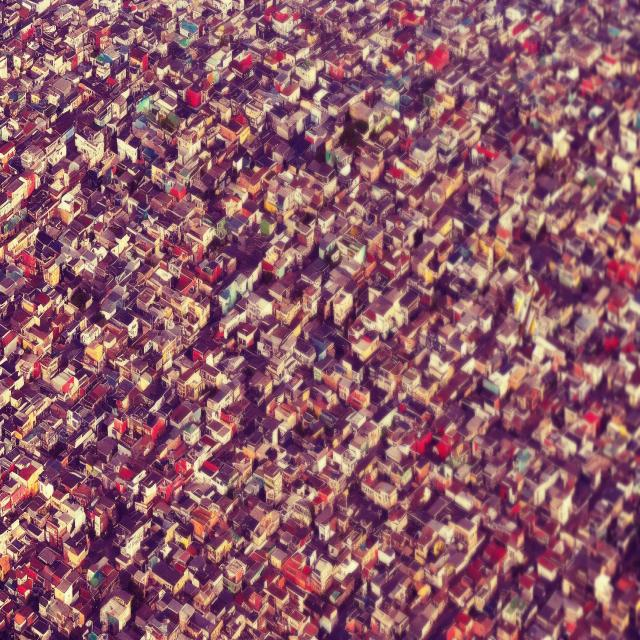airplane: (512, 285, 539, 344)
